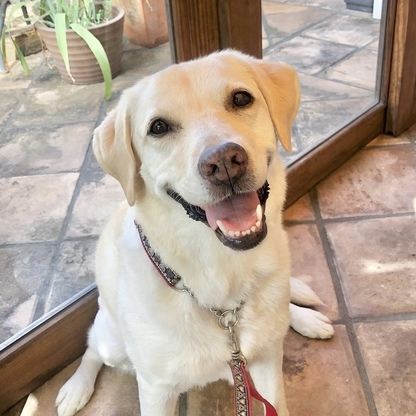labrado: (52, 43, 343, 416)
